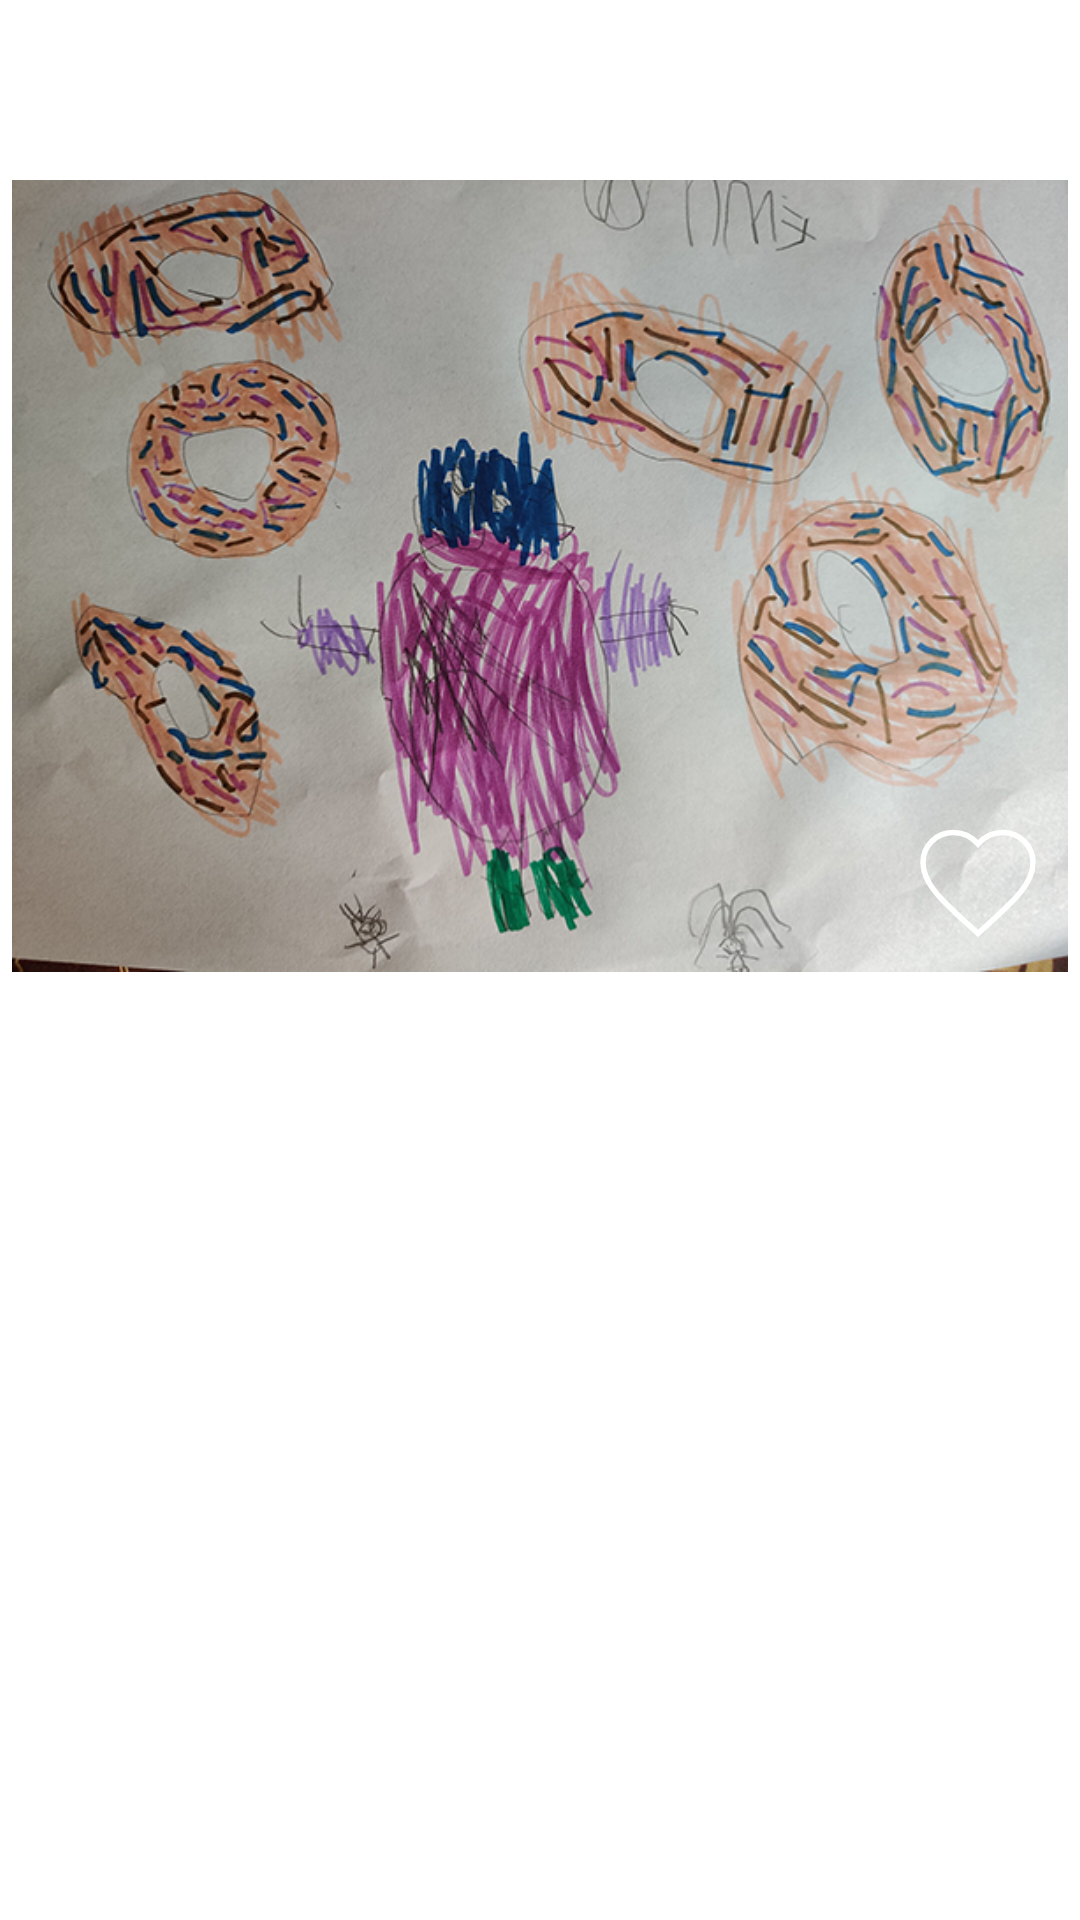

Icon bounding boxes for this 1080w x 1920h phone screenshot, format Rect(x1, y1, x2, y2):
favorite: Rect(920, 810, 1035, 936)
